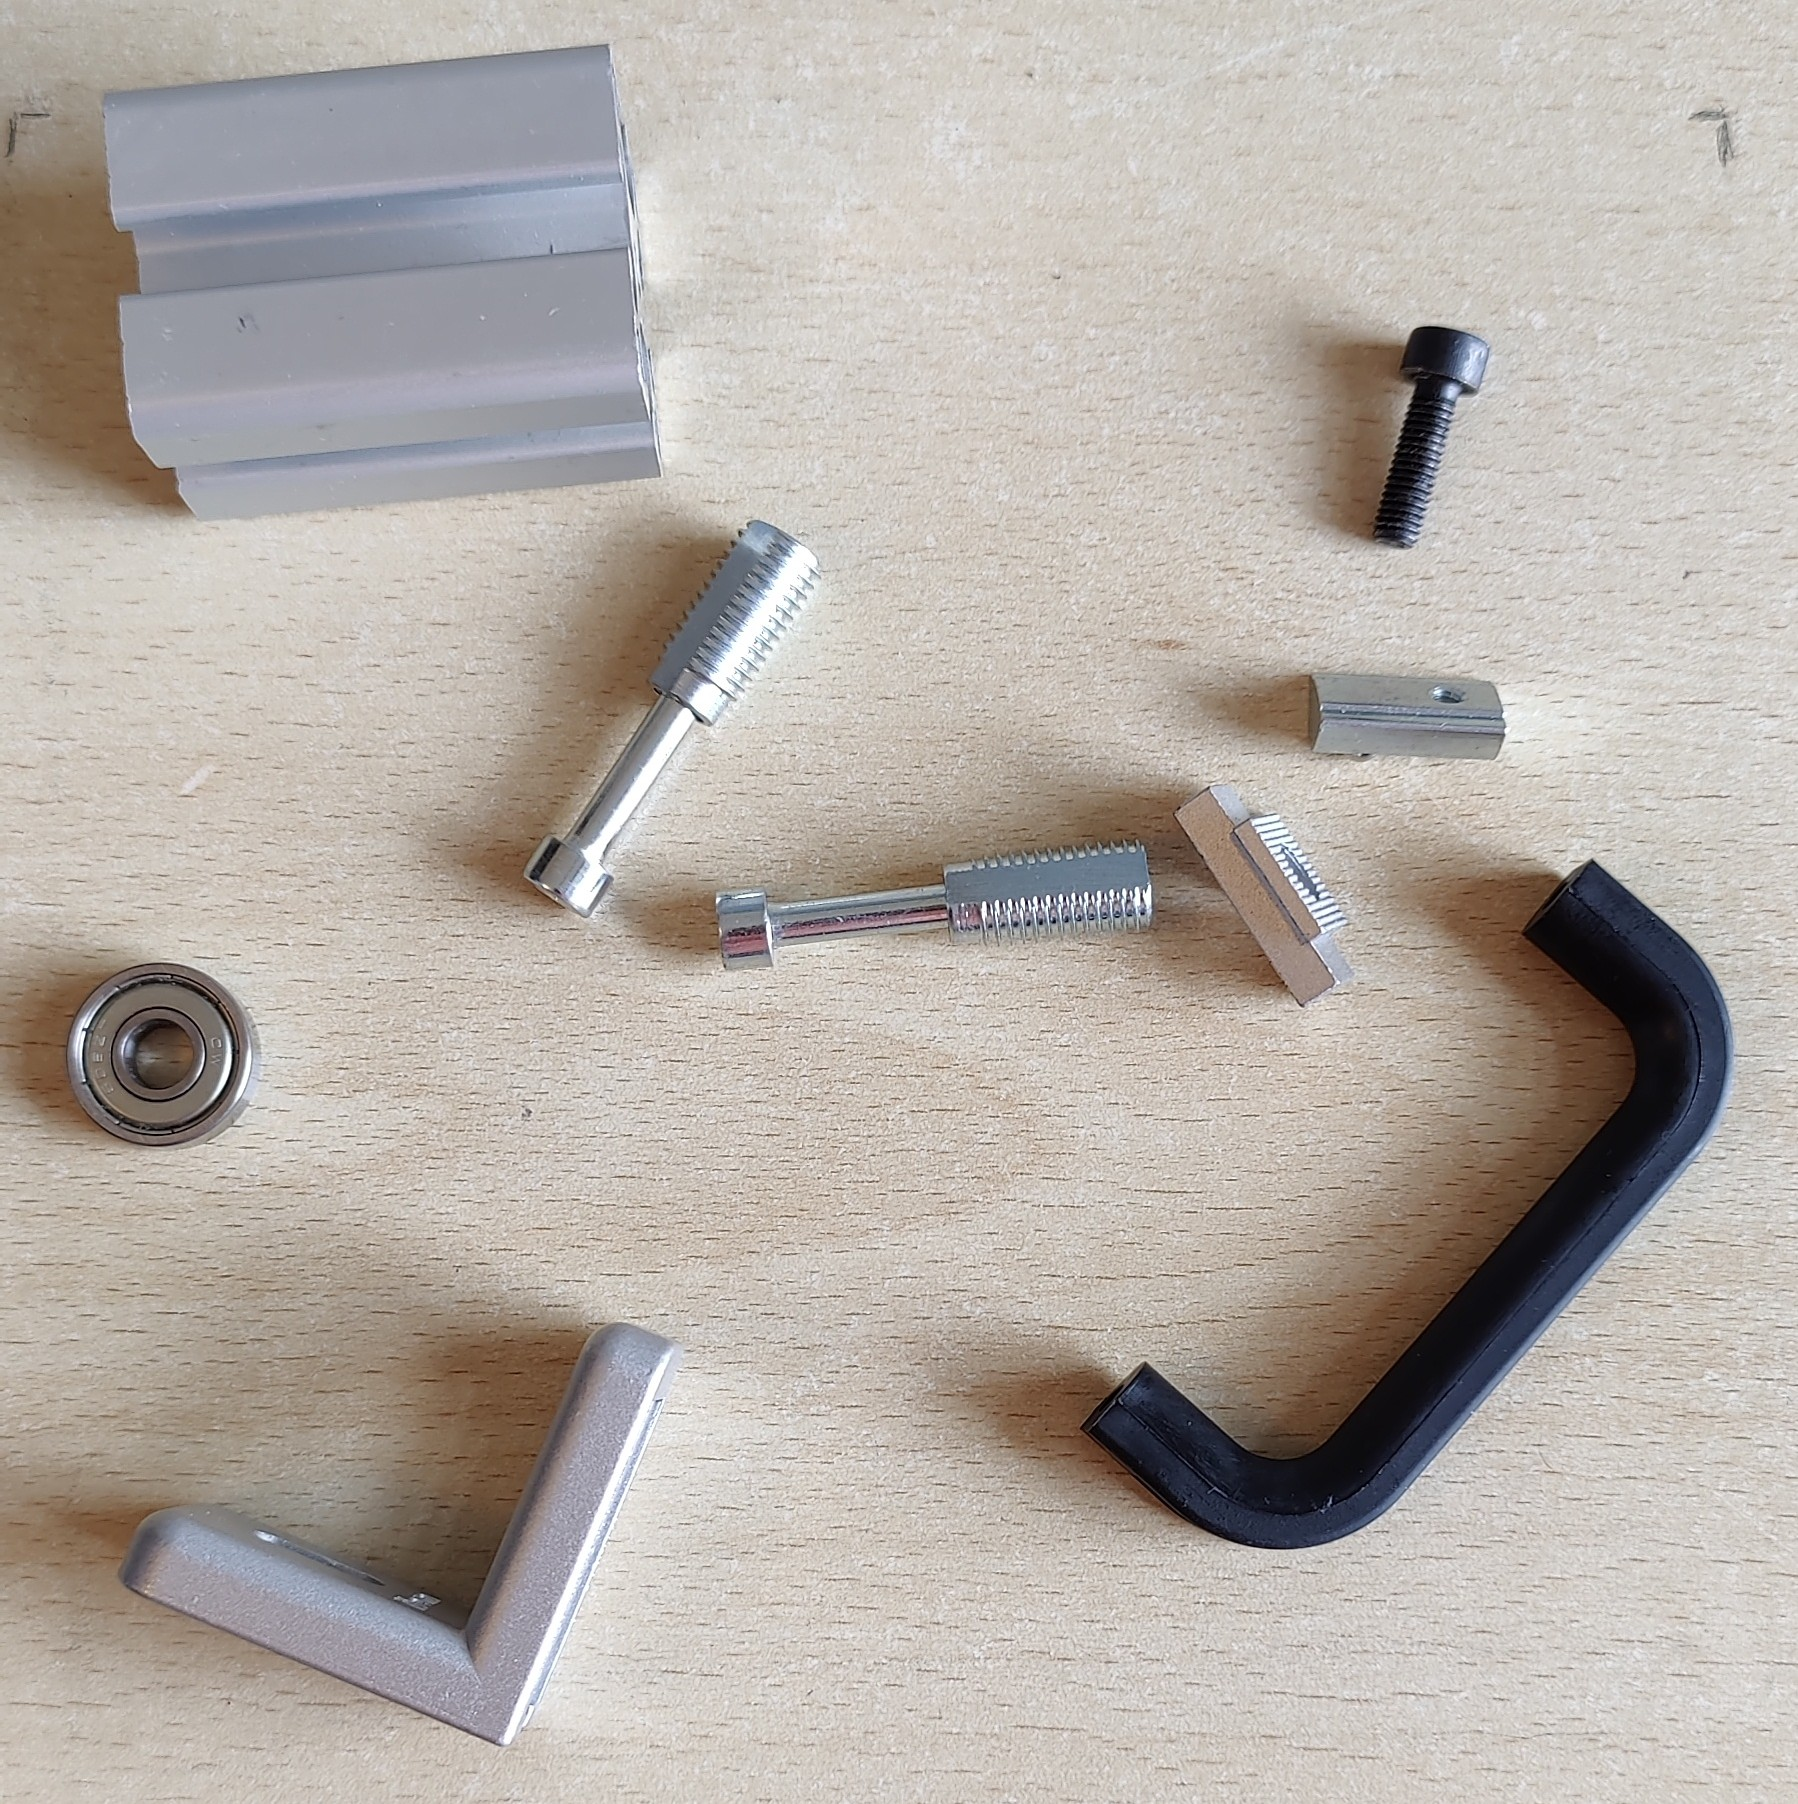Aluminium Extension: (99, 40, 667, 523)
Ball Bearing: (63, 961, 262, 1152)
Multiwinkel: (114, 1318, 682, 1751)
Pull Handle: (1077, 854, 1737, 1551)
Shoulder Socket Head Cap Screw: (522, 510, 827, 922), (715, 831, 1156, 974)
Socket Head Cap Screw: (1370, 323, 1492, 551)
T Nut Square: (1171, 780, 1358, 1012)
T Spring Nut: (1302, 670, 1512, 762)
